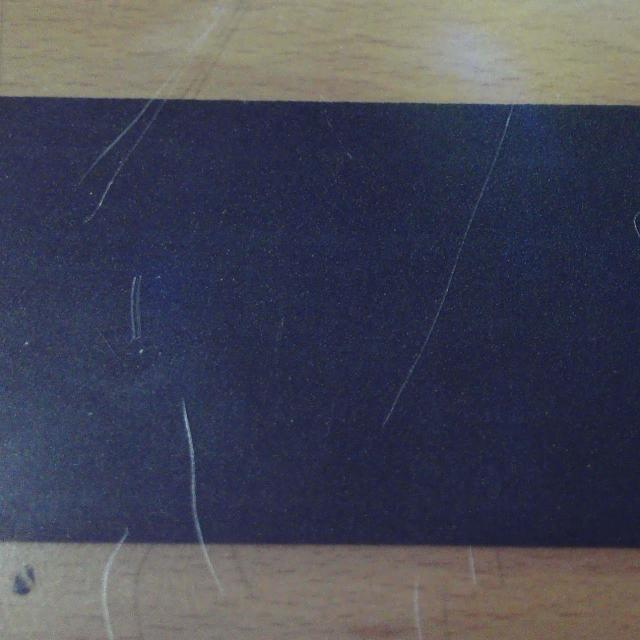defect: (385, 105, 517, 425), (78, 100, 166, 223), (181, 403, 207, 543), (129, 275, 145, 345), (632, 208, 640, 242), (119, 529, 132, 541)
